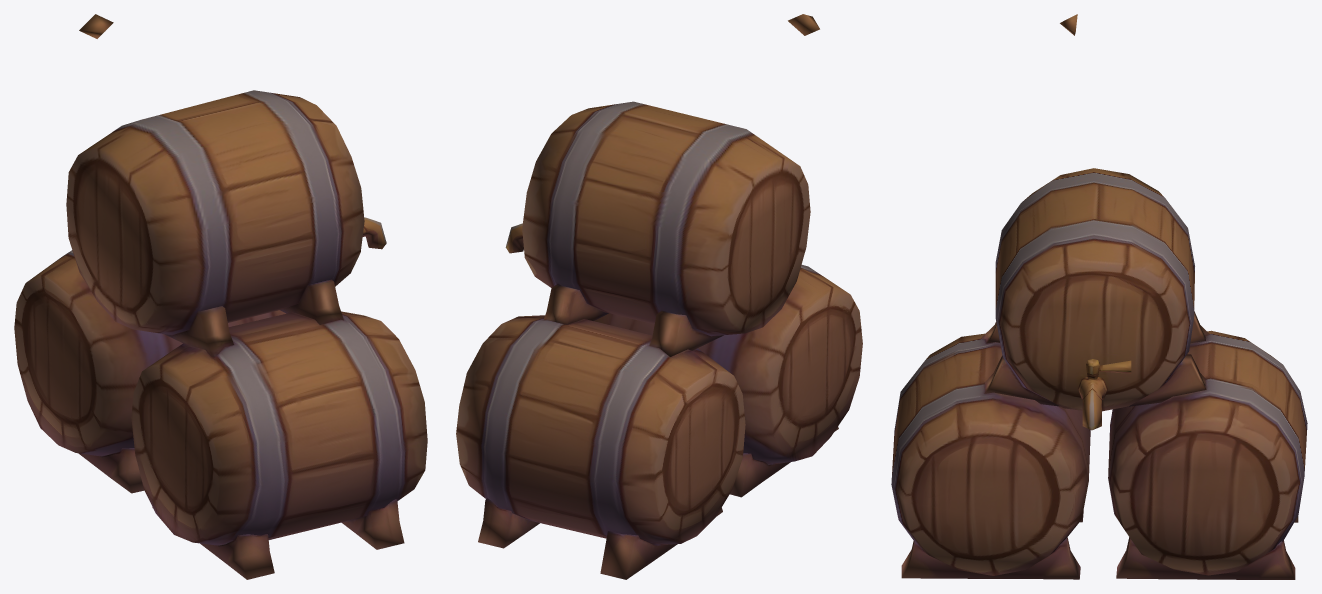
File: map_barrels_tripo.glb
3 views of the same model, side by side, from view 1: azimuth 30°, elevation 25°; view 2: azimuth 150°, elevation 25°; view 3: azimuth 270°, elevation 25° (orthographic). The views are drawn at different scales.
Visible parts, largest first — view 1: tripo_node_731e1d36-df1e-4d86-9d2c-8550e7444d4b; view 2: tripo_node_731e1d36-df1e-4d86-9d2c-8550e7444d4b; view 3: tripo_node_731e1d36-df1e-4d86-9d2c-8550e7444d4b.
Boxes of the visible parts, x1,y1,x2,y2 form: tripo_node_731e1d36-df1e-4d86-9d2c-8550e7444d4b: (14, 14, 427, 579); tripo_node_731e1d36-df1e-4d86-9d2c-8550e7444d4b: (456, 14, 862, 579); tripo_node_731e1d36-df1e-4d86-9d2c-8550e7444d4b: (891, 14, 1307, 579).
Bounding box in the file's own units: 0.6465 × 0.998 × 0.8027.
Materials: 1 (1 with a texture image).
